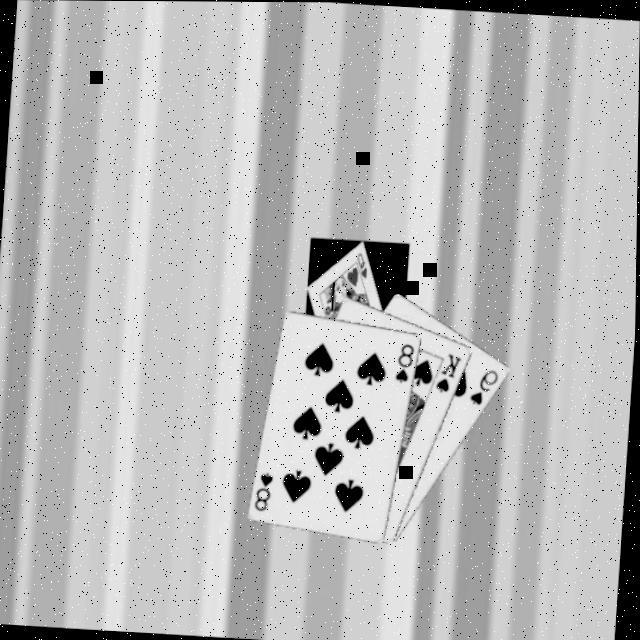8S: (253, 470, 280, 516), (394, 341, 420, 388)
9S: (468, 366, 504, 411)
KS: (434, 350, 466, 398)
